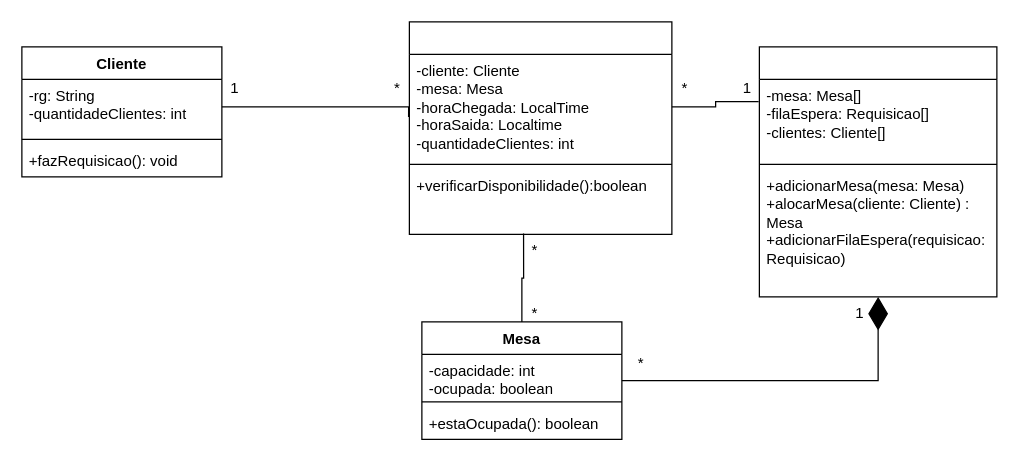
The diagram is 1019 pixels wide and 465 high, and some of its shapes have lost their labels. Each missing label, with the box of its shape:
Requisicao: (408, 21, 672, 234)
Restaurante: (758, 46, 997, 297)
